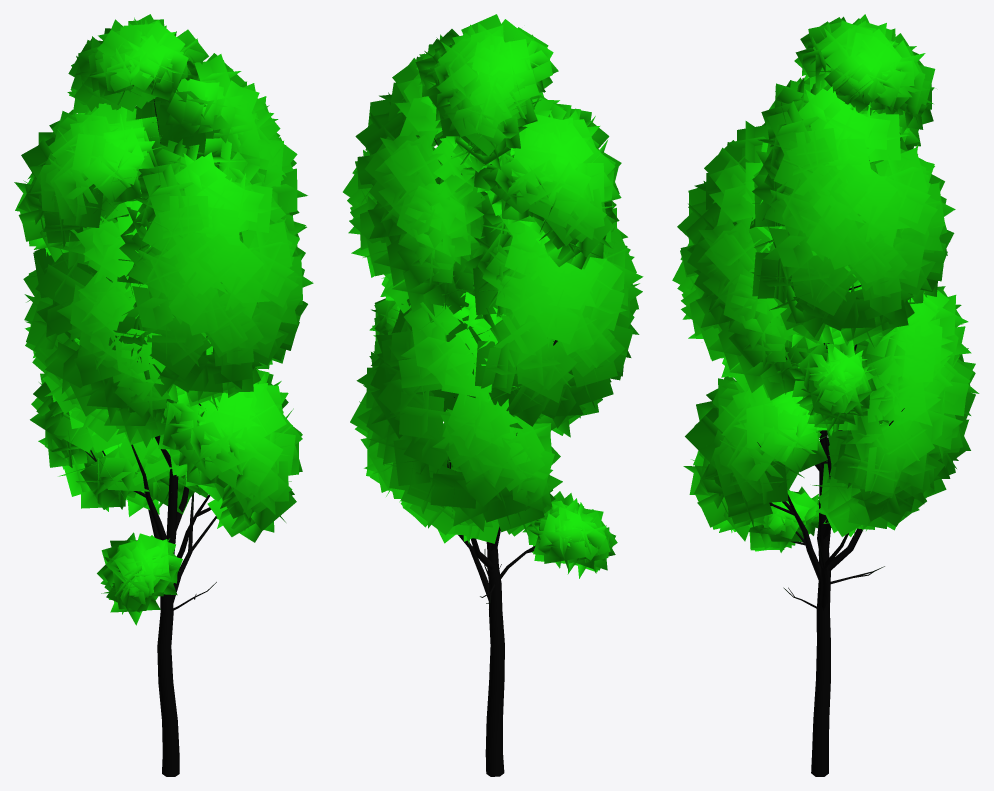
File: Tree.fbx
3 renders of one model, left to right at view 1: azimuth 30°, elevation 25°; view 2: azimuth 150°, elevation 25°; view 3: azimuth 270°, elevation 25°, orthographic. The views are drawn at different scales.
Parts seen in each view (by area): view 1: Leaves, Trunk; view 2: Leaves, Trunk; view 3: Leaves, Trunk.
Boxes of the visible parts, x1=… form: Leaves: x1=14, y1=14, x2=313, y2=625; Trunk: x1=85, y1=99, x2=216, y2=776; Leaves: x1=343, y1=14, x2=643, y2=578; Trunk: x1=434, y1=138, x2=557, y2=776; Leaves: x1=672, y1=14, x2=979, y2=552; Trunk: x1=757, y1=160, x2=904, y2=776.
Size of the model in its own units: 3.56 by 9.82 by 3.66.
